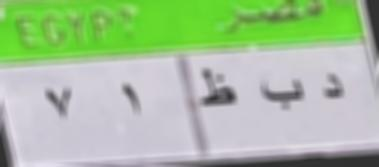1: (116, 76, 150, 118)
7: (44, 77, 76, 126)
Thaa: (192, 66, 237, 114)
baa: (257, 76, 310, 114)
daal: (318, 70, 348, 108)
